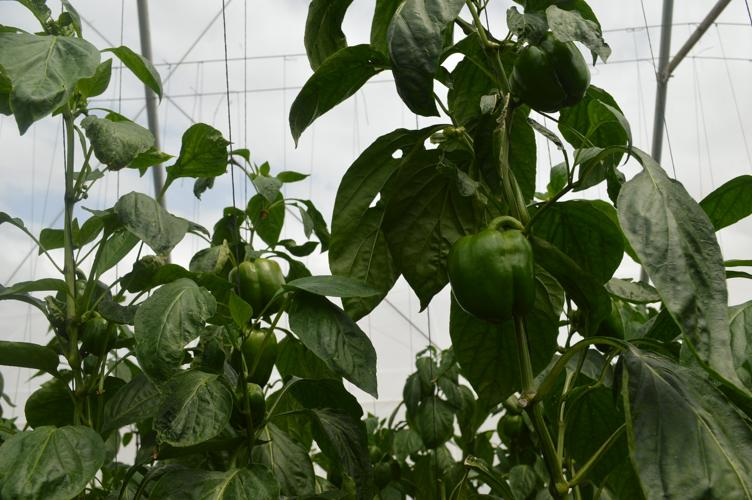BellPepper: (446, 229, 538, 322), (503, 38, 590, 108), (231, 260, 290, 318), (233, 327, 278, 384), (226, 382, 265, 426), (82, 319, 120, 357)
